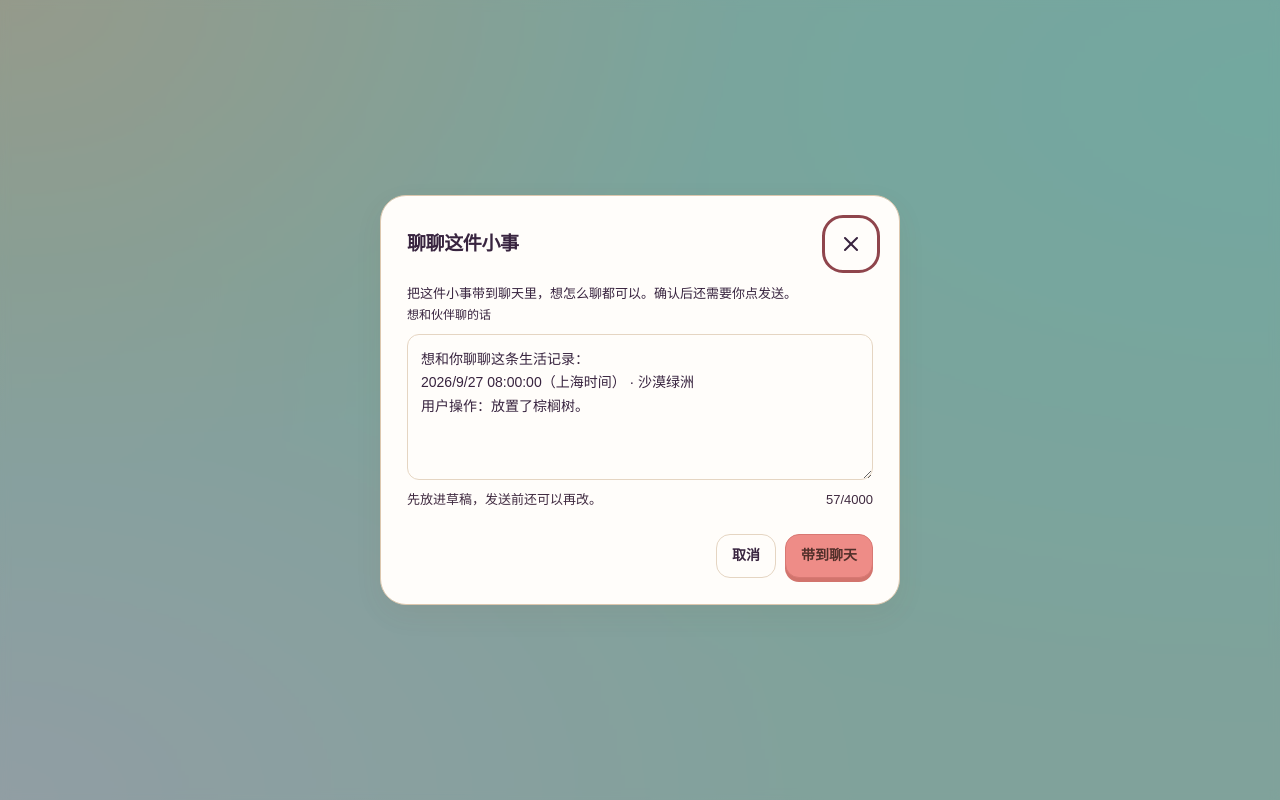
rechecks storage at confirmation even if no local update event arrived
Click the button "带到聊天".
click(829, 556)  # box [785, 534, 873, 578]
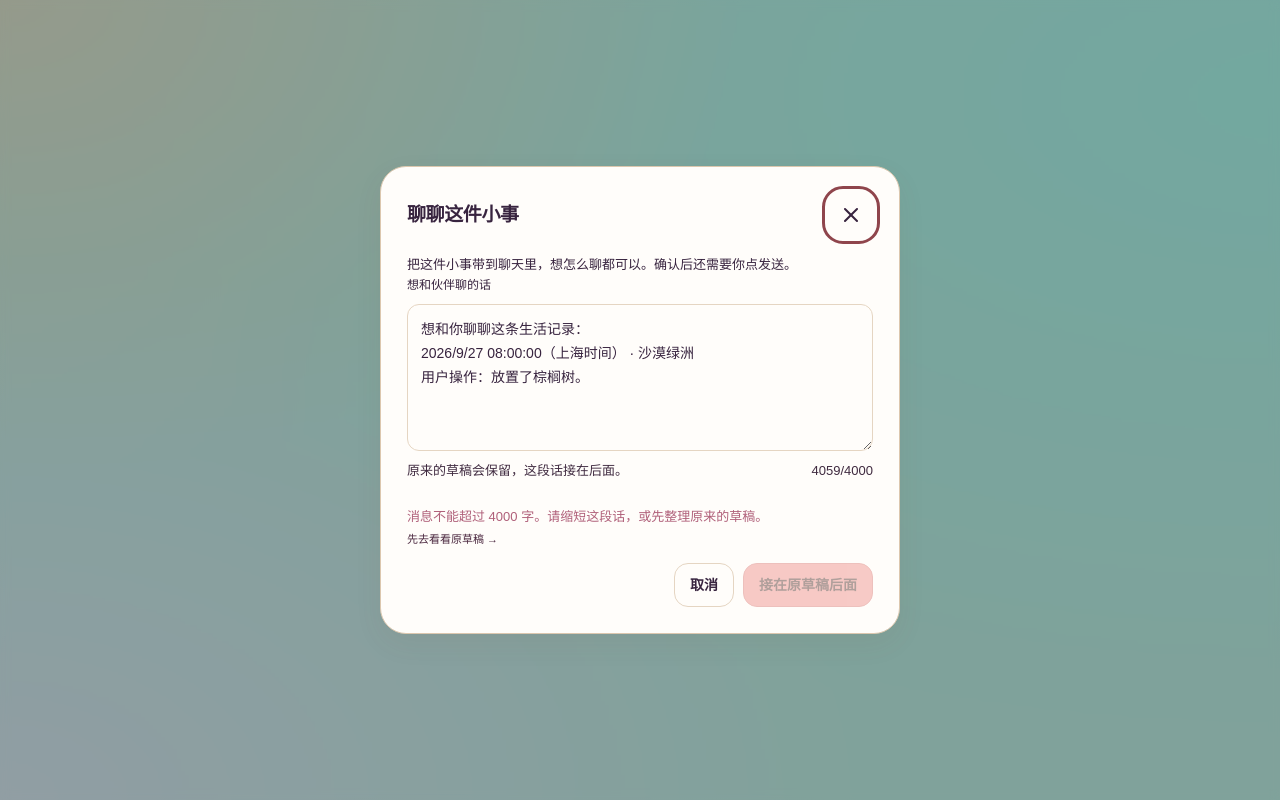
Expected: the message shows "4000", [407, 509, 534, 524]
